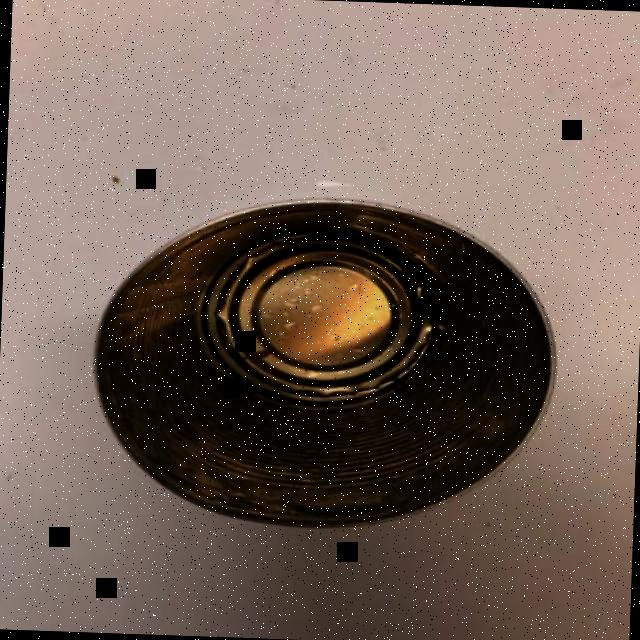can: (83, 188, 566, 540)
